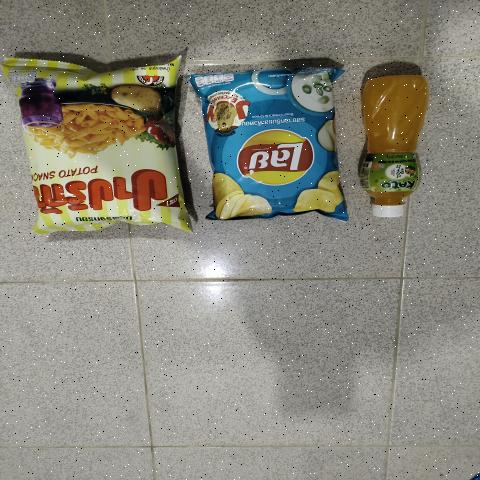lay_blue: (213, 73, 344, 214)
paprika: (20, 56, 186, 228)
